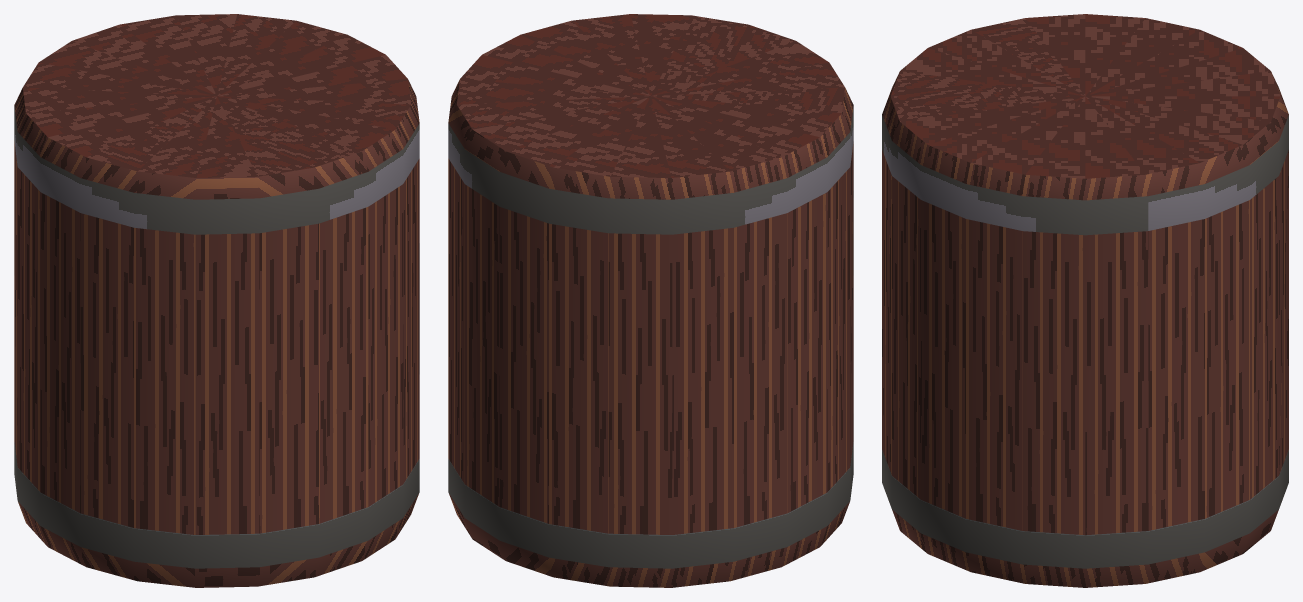
The model's file is Barrel.fbx.
3 renders of one model, left to right at view 1: azimuth 30°, elevation 25°; view 2: azimuth 150°, elevation 25°; view 3: azimuth 270°, elevation 25°, orthographic.
Parts seen in each view (by area): view 1: Barrel; view 2: Barrel; view 3: Barrel.
Boxes of the visible parts, box(x1,y1,x2,y2) form: Barrel: box(14, 14, 419, 587); Barrel: box(448, 14, 853, 587); Barrel: box(882, 14, 1288, 587).
Bounding box in the file's own units: 425 × 472 × 425.
3 materials, 3 textured.
